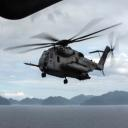helicopter: (23, 15, 125, 87)
